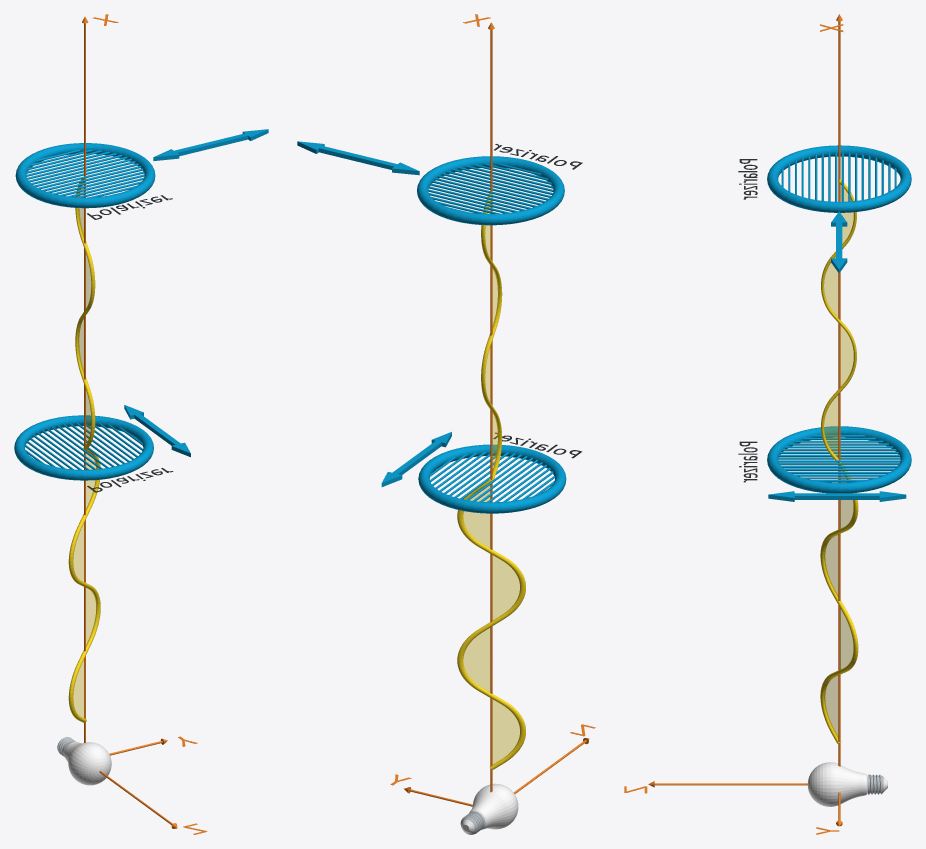
Rendered from angle.obj.
3 renders of one model, left to right at view 1: azimuth 30°, elevation 25°; view 2: azimuth 150°, elevation 25°; view 3: azimuth 270°, elevation 25°, orthographic. The views are drawn at different scales.
Parts seen in each view (by area): view 1: group_0_40919, group_0_-1023419110, group_0_16768282, group_0_16089887, group_0_16448250, group_0_2829873; view 2: group_0_40919, group_0_-1023419110, group_0_16768282, group_0_16089887, group_0_16448250, group_0_2829873; view 3: group_0_40919, group_0_-1023419110, group_0_16089887, group_0_16768282, group_0_16448250, group_0_2829873.
Part boxes in pixels (x1,y1,x2,y2): group_0_40919: (14,129,268,480); group_0_-1023419110: (73,182,96,717); group_0_16768282: (68,175,100,722); group_0_16089887: (82,14,207,834); group_0_16448250: (64,741,111,785); group_0_2829873: (87,195,173,492); group_0_40919: (297,141,566,513); group_0_-1023419110: (463,203,519,764); group_0_16768282: (457,191,525,769); group_0_16089887: (390,14,595,806); group_0_16448250: (461,783,518,833); group_0_2829873: (493,144,582,458); group_0_40919: (767,145,911,501); group_0_-1023419110: (824,185,853,736); group_0_16089887: (624,14,843,834); group_0_16768282: (820,179,858,743); group_0_16448250: (807,762,887,806); group_0_2829873: (738,159,757,482).
Bounding box in the file's own units: 132 × 392 × 129.
